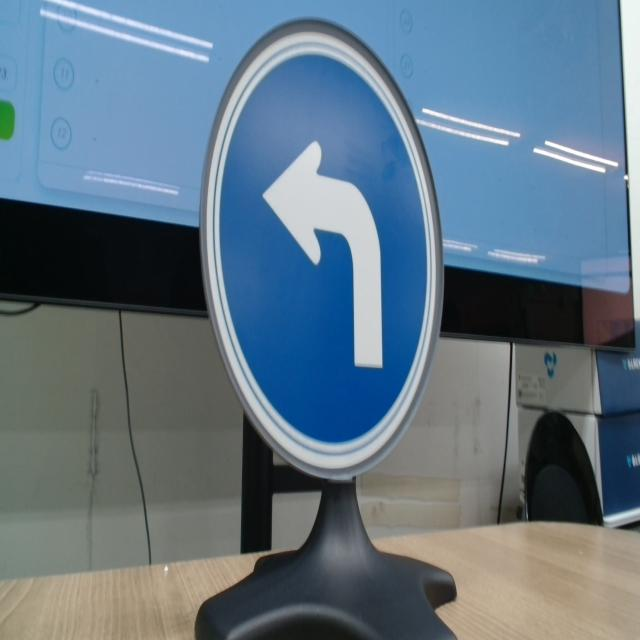left_direction: (199, 5, 474, 502)
